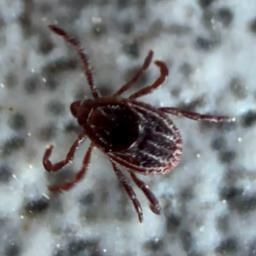Rhipicephalus sanguineus: (43, 24, 236, 223)
